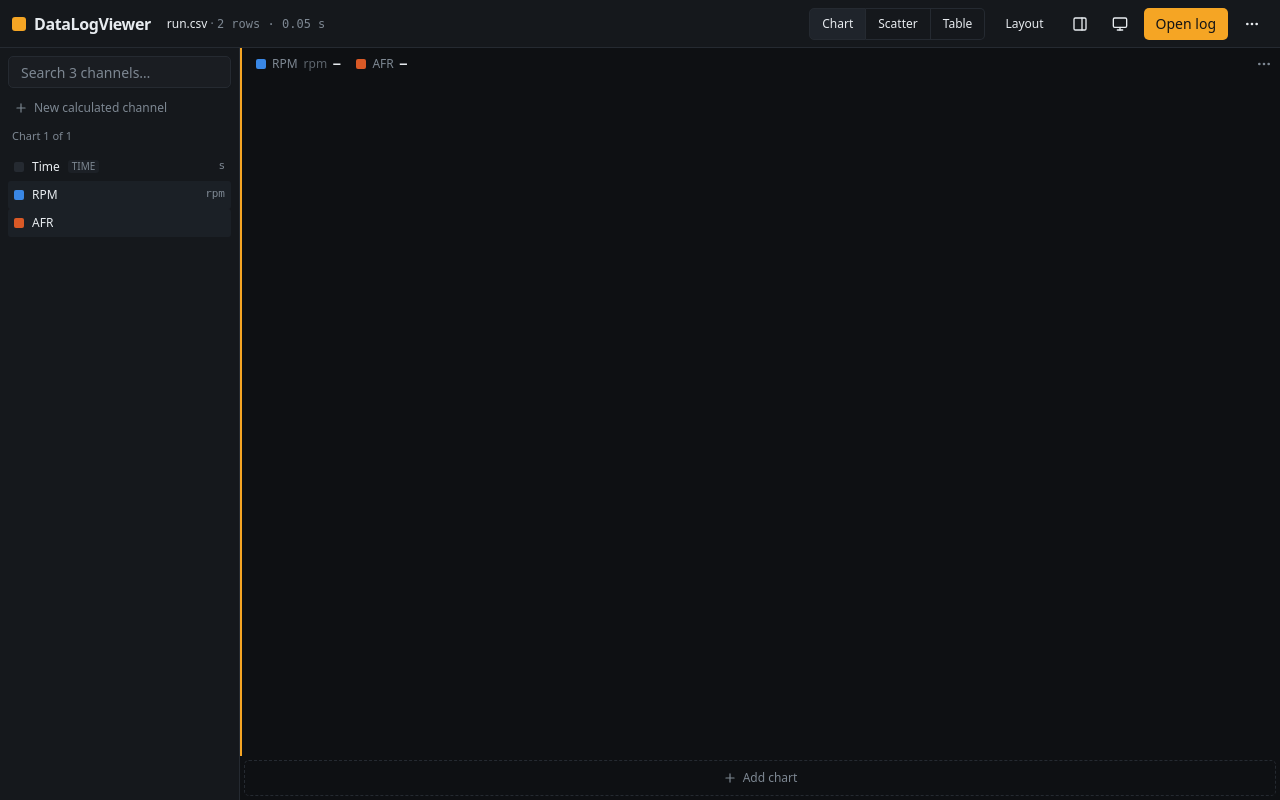
Scenario: the Inspector toggle shows the Inspector
Step 1. Click the button named "Inspector" → (1080, 24), box 1064,8 -> 1096,40
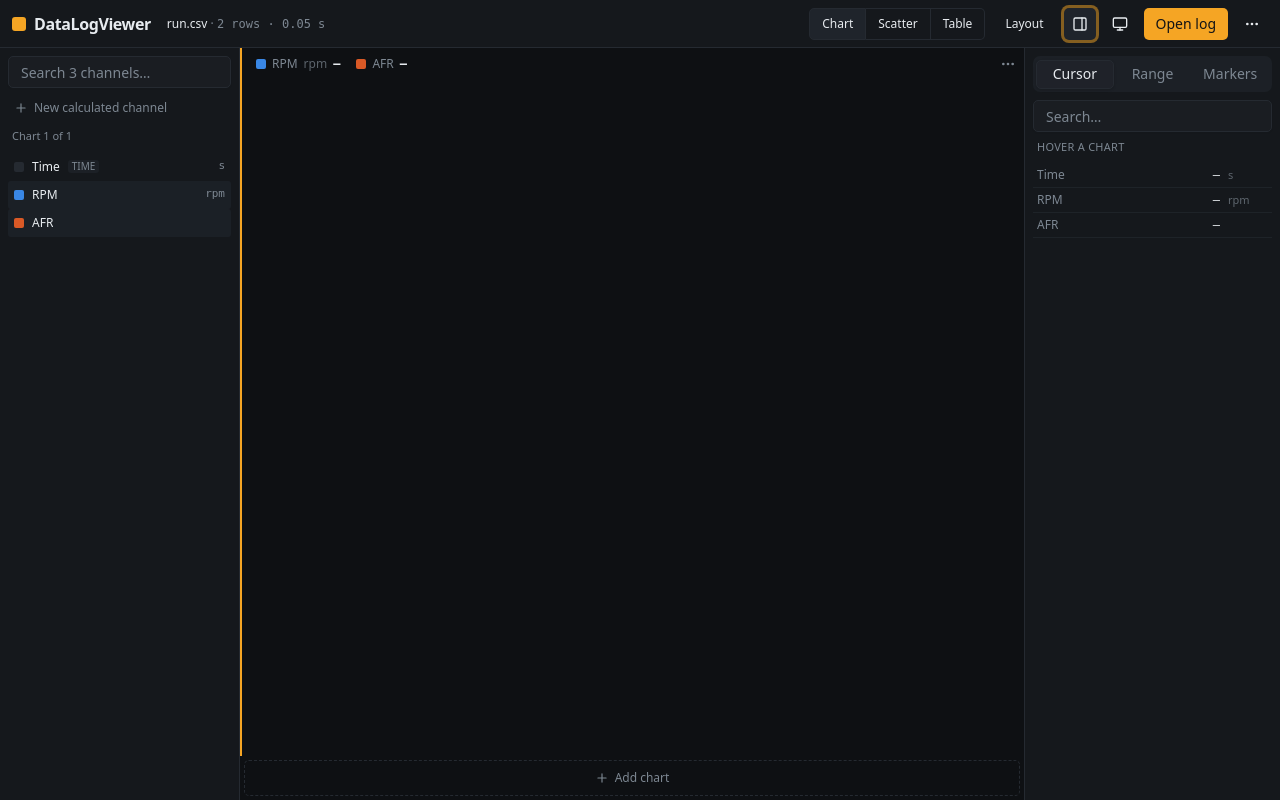
expect the text "Hover a chart" is shown: met, box 1037,139 -> 1125,154
